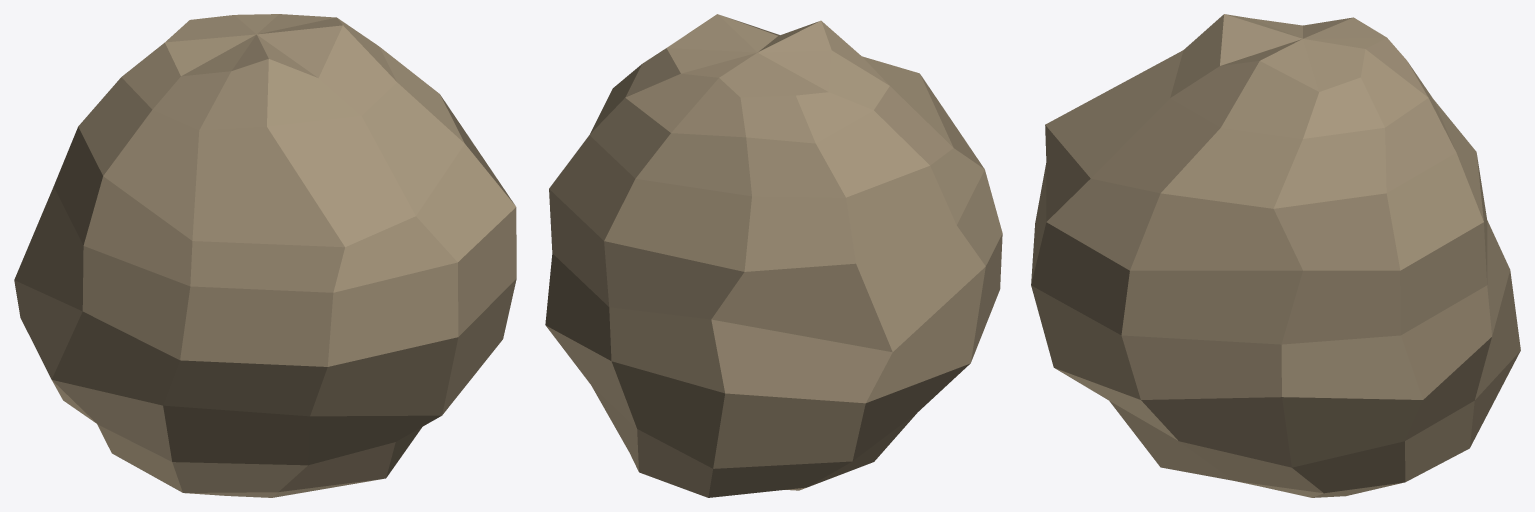
File: rocks_round_lrg.fbx
3 views of the same model, side by side, from view 1: azimuth 30°, elevation 25°; view 2: azimuth 150°, elevation 25°; view 3: azimuth 270°, elevation 25° (orthographic). The views are drawn at different scales.
Visible parts, largest first — view 1: rocks_round_lrg; view 2: rocks_round_lrg; view 3: rocks_round_lrg.
Part boxes in pixels (left/top/right/bottom): rocks_round_lrg: left=14, top=14, right=516, bottom=497; rocks_round_lrg: left=545, top=14, right=1002, bottom=497; rocks_round_lrg: left=1031, top=14, right=1520, bottom=497.
Bounding box in the file's own units: 40.4 × 41.07 × 41.23.
